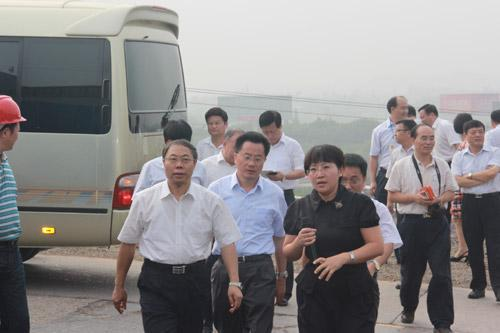head: (306, 141, 347, 197), (233, 132, 275, 181), (162, 138, 201, 187), (340, 156, 369, 199), (160, 119, 194, 152), (204, 105, 233, 141), (258, 108, 287, 143), (393, 113, 419, 148), (463, 120, 487, 153), (222, 128, 245, 162), (415, 125, 437, 160), (387, 95, 410, 125), (418, 102, 441, 129), (454, 113, 472, 140), (489, 105, 500, 135)
helmet: (2, 95, 25, 153)
